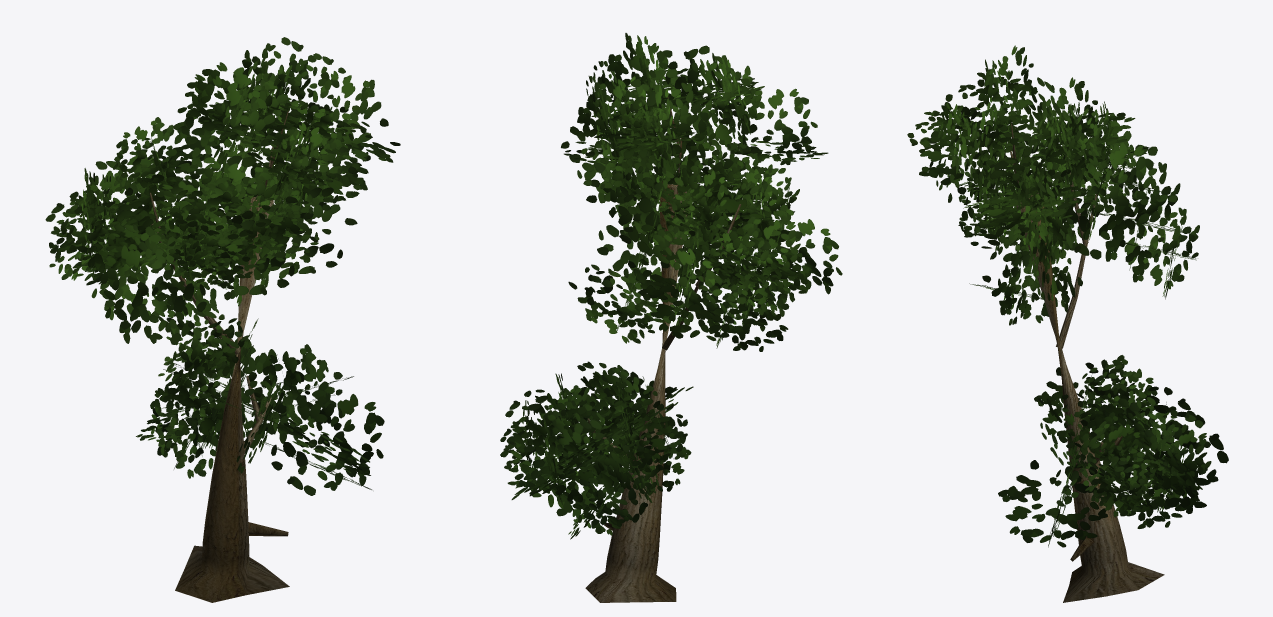
File: env_tree_shade_young_01.glb
The picture shows the model from 3 angles, left to right: view 1: azimuth 30°, elevation 25°; view 2: azimuth 150°, elevation 25°; view 3: azimuth 270°, elevation 25°; orthographic projection. The views are drawn at different scales.
Parts seen in each view (by area): view 1: tree_shade_young_01; view 2: tree_shade_young_01; view 3: tree_shade_young_01.
Boxes of the visible parts, x1,y1,x2,y2 form: tree_shade_young_01: (45, 37, 400, 602); tree_shade_young_01: (500, 33, 842, 602); tree_shade_young_01: (907, 45, 1228, 602).
Size of the model in its own units: 1.75 by 2.63 by 1.62.
2 materials, 2 textured.
